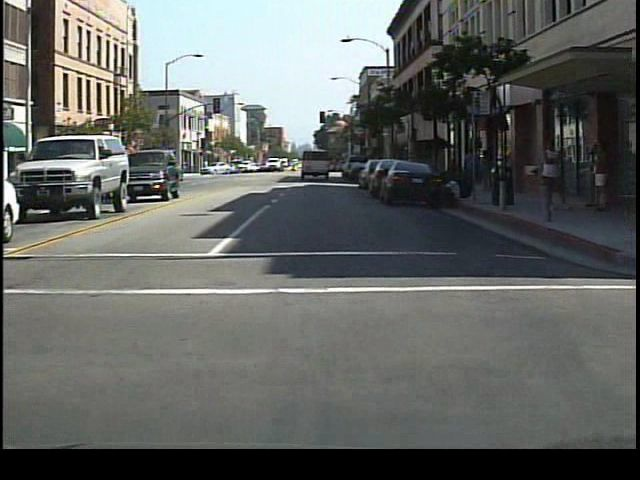person: (535, 130, 570, 223), (461, 141, 482, 200)
